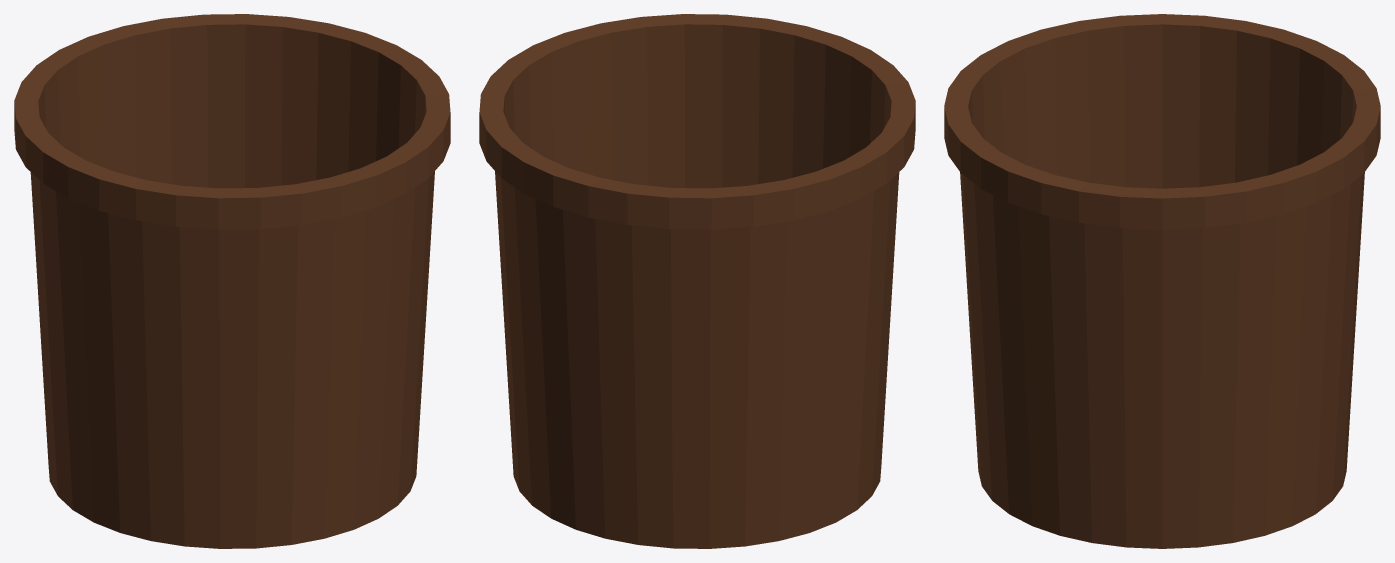
Rendered from Flowerpot.fbx.
3 renders of one model, left to right at view 1: azimuth 30°, elevation 25°; view 2: azimuth 150°, elevation 25°; view 3: azimuth 270°, elevation 25°, orthographic.
Parts seen in each view (by area): view 1: Cylinder; view 2: Cylinder; view 3: Cylinder.
Part boxes in pixels (bbox=[...]): Cylinder: bbox=[14, 14, 450, 548]; Cylinder: bbox=[479, 14, 915, 548]; Cylinder: bbox=[944, 14, 1380, 548].
Size of the model in its own units: 237 by 219 by 237.
